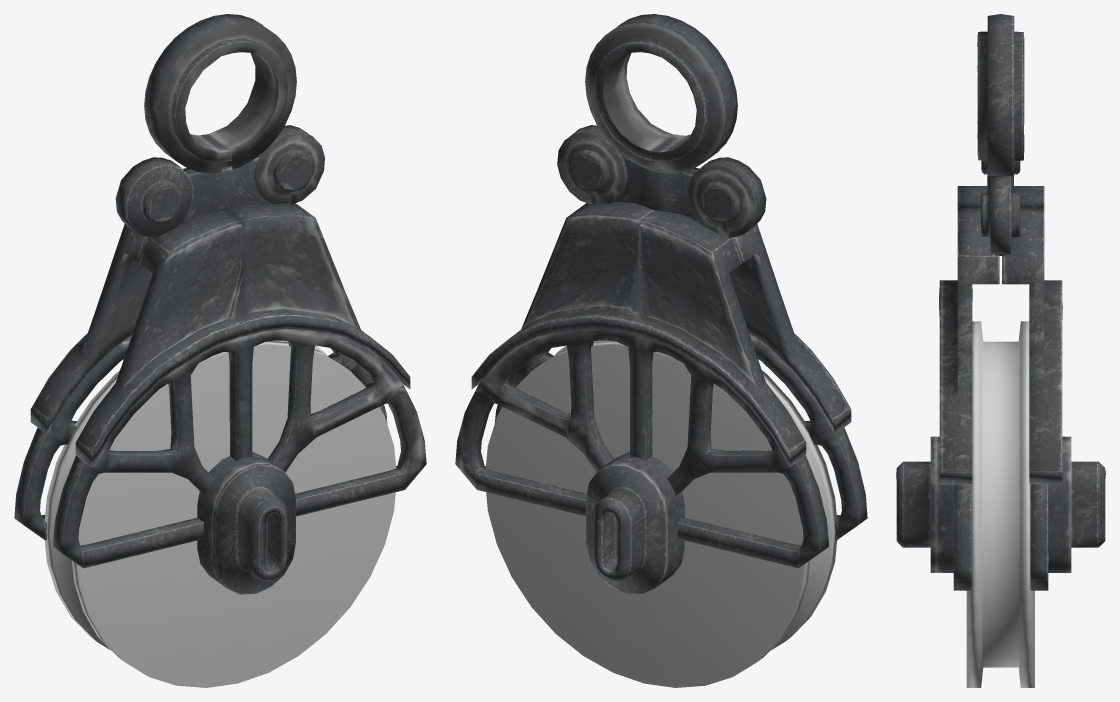
Rendered from SM_Pulley-A.fbx.
The picture shows the model from 3 angles, left to right: view 1: azimuth 30°, elevation 25°; view 2: azimuth 150°, elevation 25°; view 3: azimuth 270°, elevation 25°; orthographic projection.
Parts seen in each view (by area): view 1: SM_Pulley-A_LOD0; view 2: SM_Pulley-A_LOD0; view 3: SM_Pulley-A_LOD0.
Boxes of the visible parts, x1,y1,x2,y2 form: SM_Pulley-A_LOD0: (14,14,426,687); SM_Pulley-A_LOD0: (455,14,867,687); SM_Pulley-A_LOD0: (896,14,1105,687).
Bounding box in the file's own units: 57.16 × 28.59 × 97.42.
Materials: 2 (1 with a texture image).
